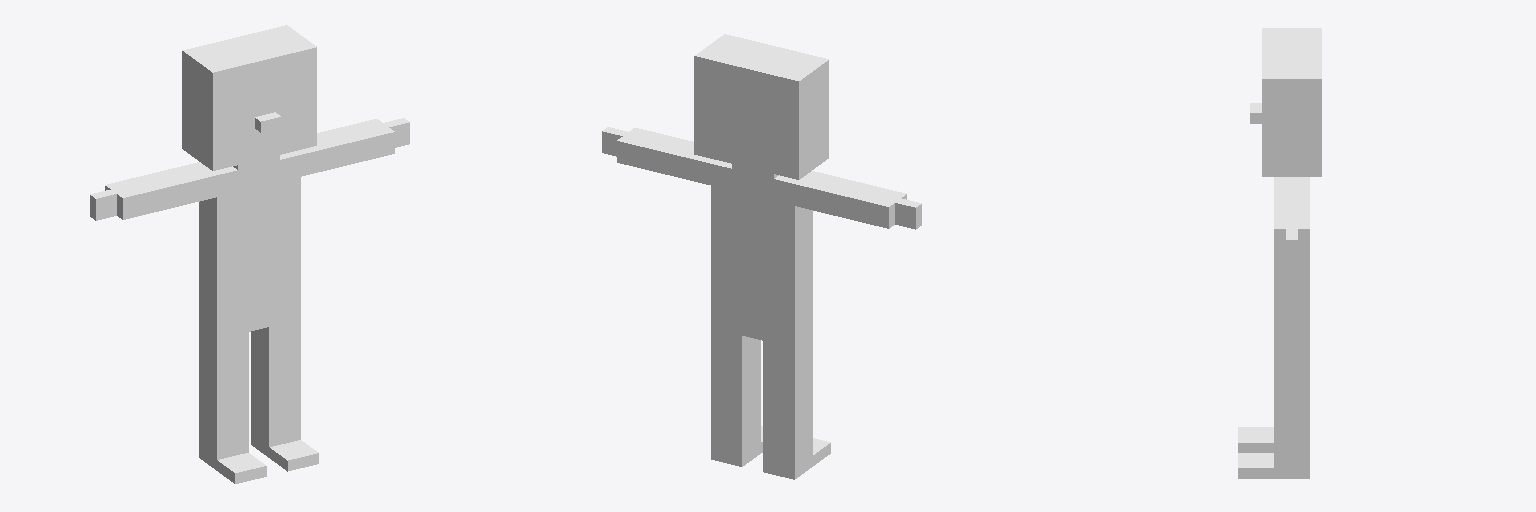
Rendered from Luffi.obj.
3 views of the same model, side by side, from view 1: azimuth 30°, elevation 25°; view 2: azimuth 150°, elevation 25°; view 3: azimuth 270°, elevation 25° (orthographic).
Visible parts, largest first — view 1: object 1; view 2: object 1; view 3: object 1.
Boxes of the visible parts, box(x1,y1,x2,y2) form: object 1: box(90, 25, 409, 483); object 1: box(602, 34, 921, 479); object 1: box(1238, 28, 1321, 478).
Size of the model in its own units: 3 by 3.7 by 0.7.